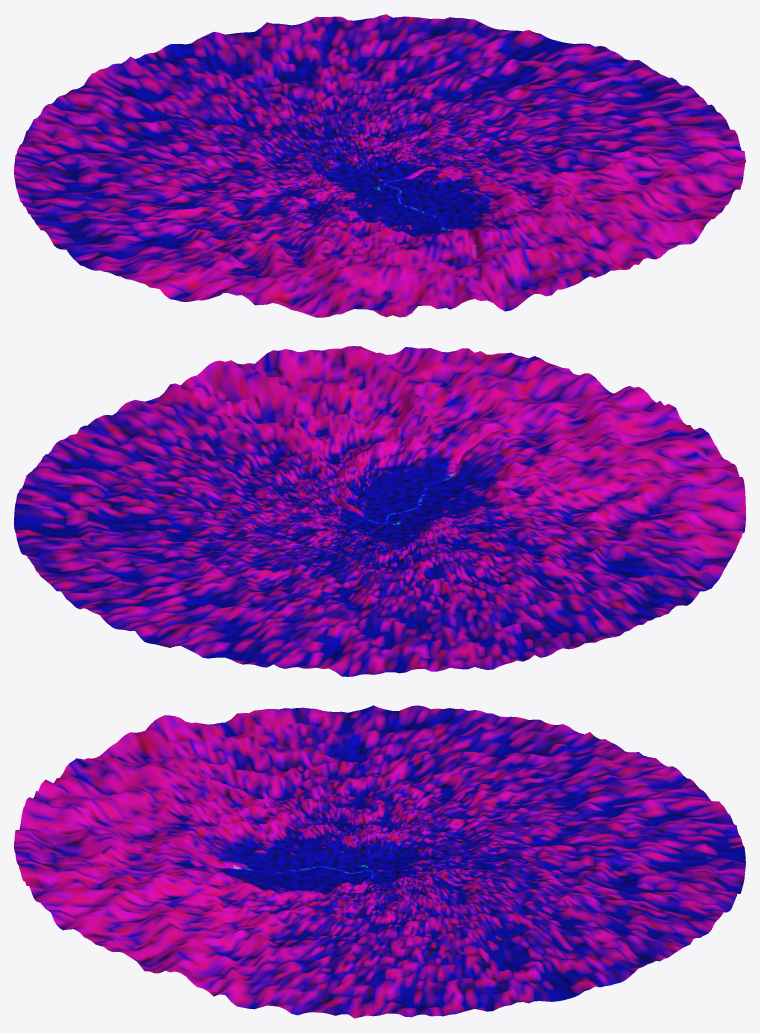
File: origins-terrain-lo.glb
3 views of the same model, one above another, from view 1: azimuth 30°, elevation 25°; view 2: azimuth 150°, elevation 25°; view 3: azimuth 270°, elevation 25° (orthographic).
Parts seen in each view (by area): view 1: OriginsTerrainLo; view 2: OriginsTerrainLo; view 3: OriginsTerrainLo.
Part boxes in pixels (box(x1,y1,x2,y2)): OriginsTerrainLo: box(14, 14, 745, 317); OriginsTerrainLo: box(14, 346, 745, 676); OriginsTerrainLo: box(14, 705, 745, 1018).
Size of the model in its own units: 28000 by 1366 by 28000.
